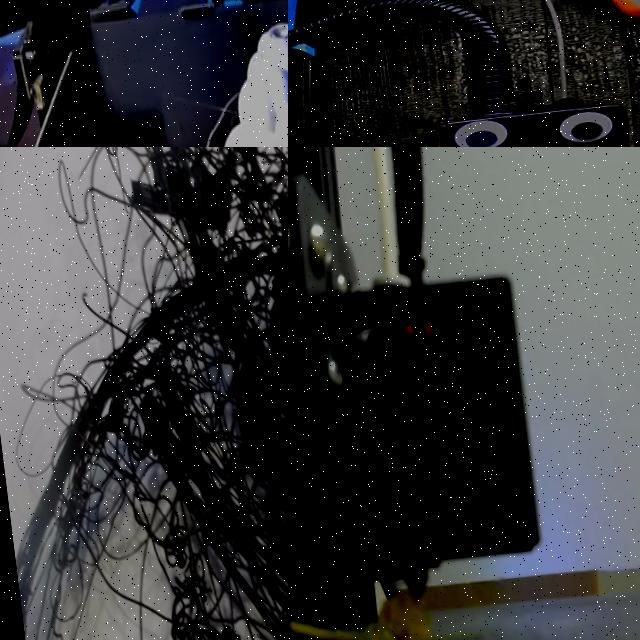spaghetti: (15, 147, 288, 640), (288, 588, 431, 640)
